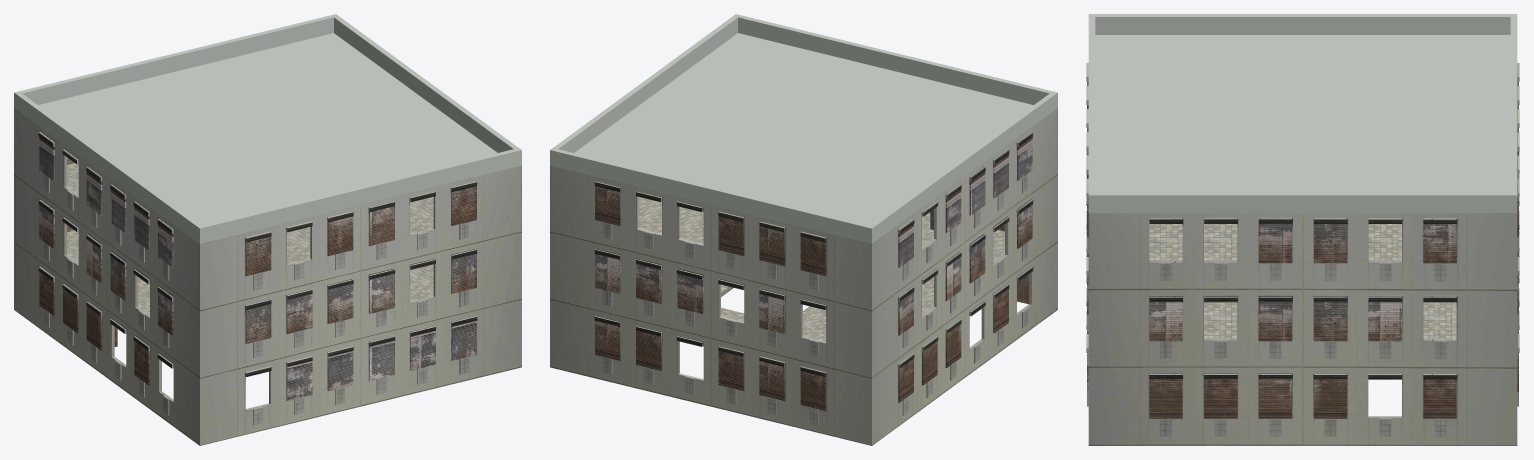
The model's file is BagSS03top_500.fbx.
The picture shows the model from 3 angles, left to right: view 1: azimuth 30°, elevation 25°; view 2: azimuth 150°, elevation 25°; view 3: azimuth 270°, elevation 25°; orthographic projection. The views are drawn at different scales.
Visible parts, largest first — view 1: topMain500, topRoof500, topwindows500, topFloors500; view 2: topMain500, topRoof500, topwindows500, topFloors500; view 3: topRoof500, topMain500, topwindows500, topFloors500.
Boxes of the visible parts, x1,y1,x2,y2 form: topMain500: [14, 108, 521, 445]; topRoof500: [14, 14, 521, 243]; topwindows500: [39, 137, 476, 400]; topFloors500: [67, 163, 433, 314]; topMain500: [550, 108, 1057, 445]; topRoof500: [550, 14, 1057, 243]; topwindows500: [595, 137, 1032, 410]; topFloors500: [638, 197, 1004, 341]; topRoof500: [1088, 14, 1517, 213]; topMain500: [1086, 63, 1519, 445]; topwindows500: [1087, 81, 1518, 418]; topFloors500: [1149, 224, 1456, 339].
Bounding box in the file's own units: 20.7 × 13.23 × 20.7.
